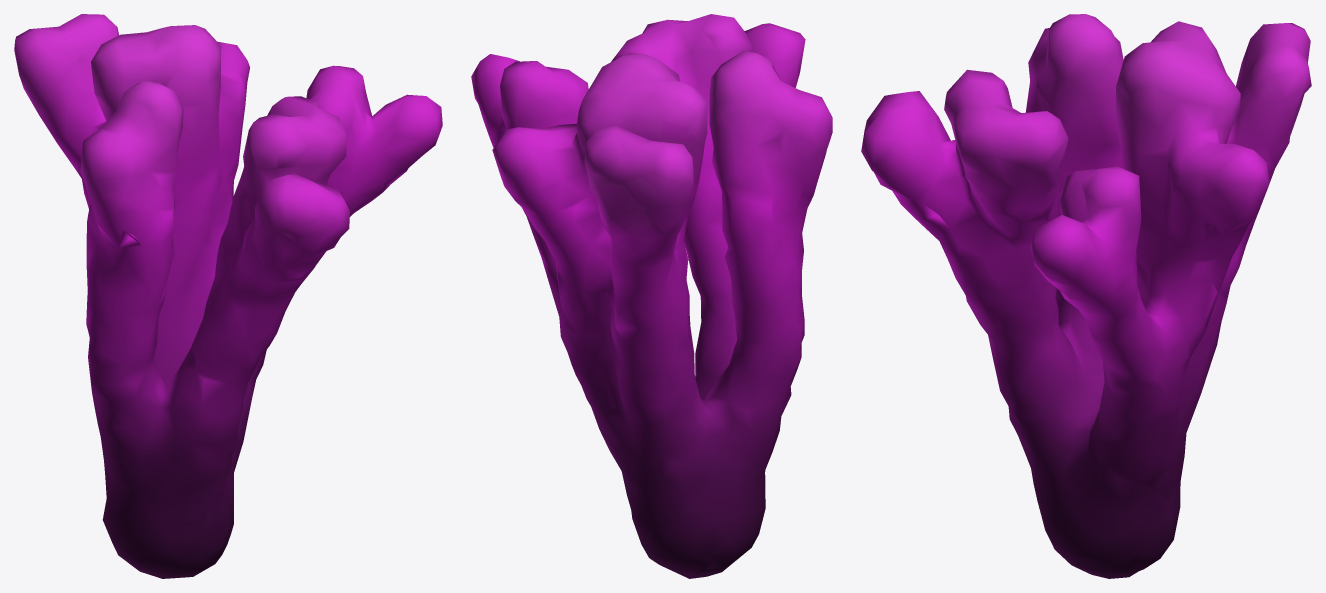
File: Coral_Finger.fbx
3 renders of one model, left to right at view 1: azimuth 30°, elevation 25°; view 2: azimuth 150°, elevation 25°; view 3: azimuth 270°, elevation 25°, orthographic. The views are drawn at different scales.
Parts seen in each view (by area): view 1: Coral_Finger; view 2: Coral_Finger; view 3: Coral_Finger.
Part boxes in pixels (x1,y1,x2,y2): Coral_Finger: [14, 14, 442, 578]; Coral_Finger: [471, 14, 832, 578]; Coral_Finger: [861, 14, 1311, 578].
Size of the model in its own units: 0.6369 by 0.9002 by 0.6733.
Materials: 1 (1 with a texture image).
